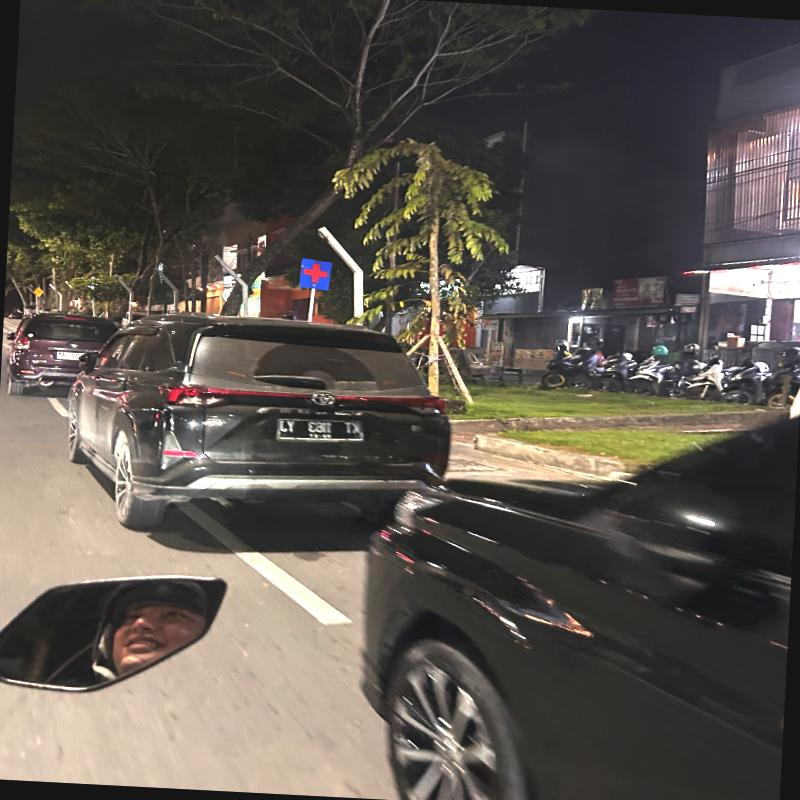license plate on a car: (274, 414, 367, 446), (54, 347, 83, 364)
